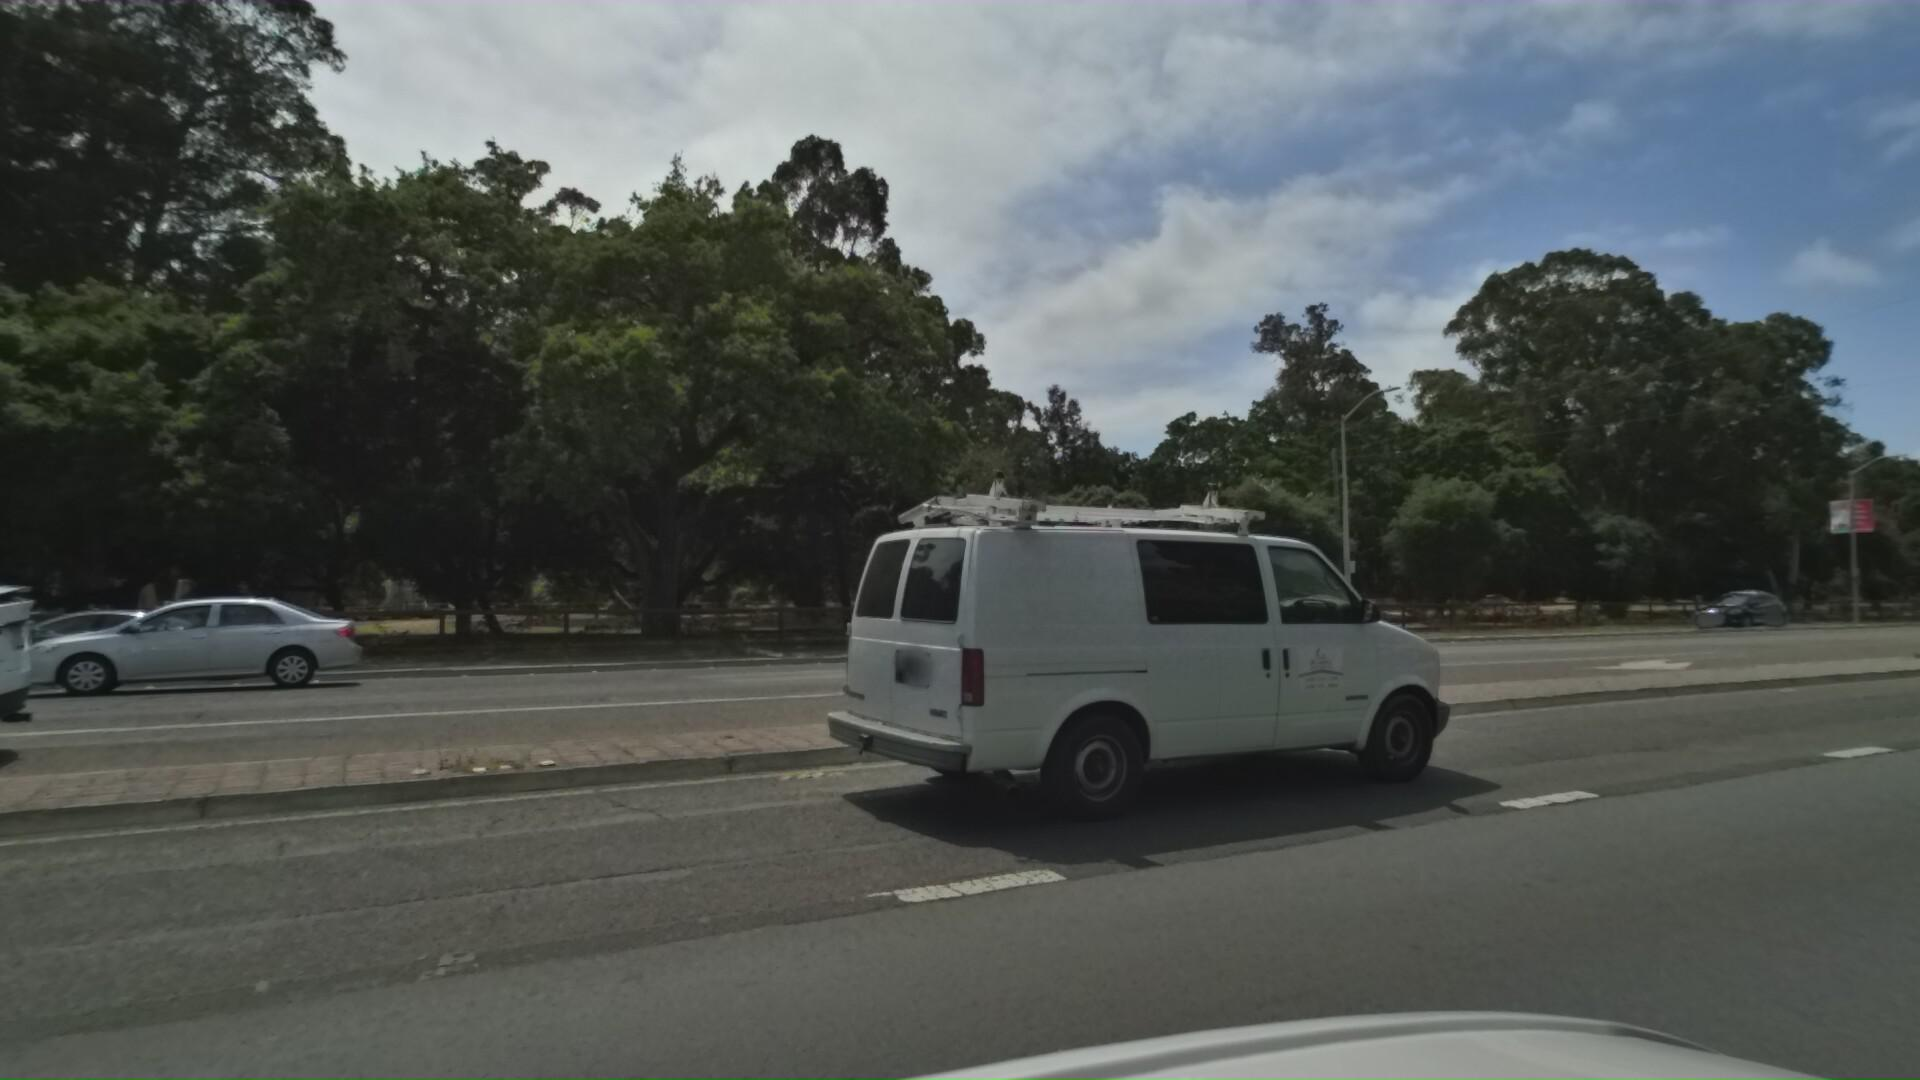car: (837, 431, 1505, 832), (0, 582, 349, 705), (0, 608, 194, 694), (1204, 589, 1349, 644), (1669, 588, 1775, 629), (0, 488, 3, 881)
